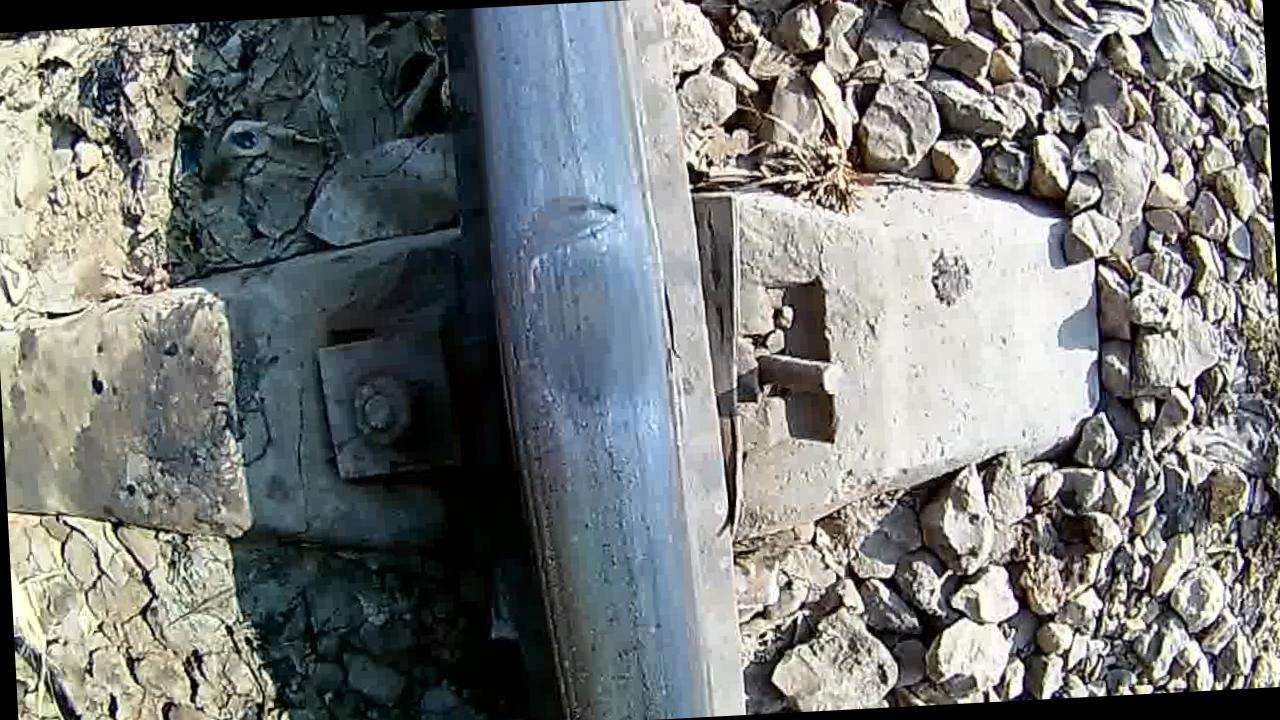bolt_missing: (466, 166, 718, 502)
